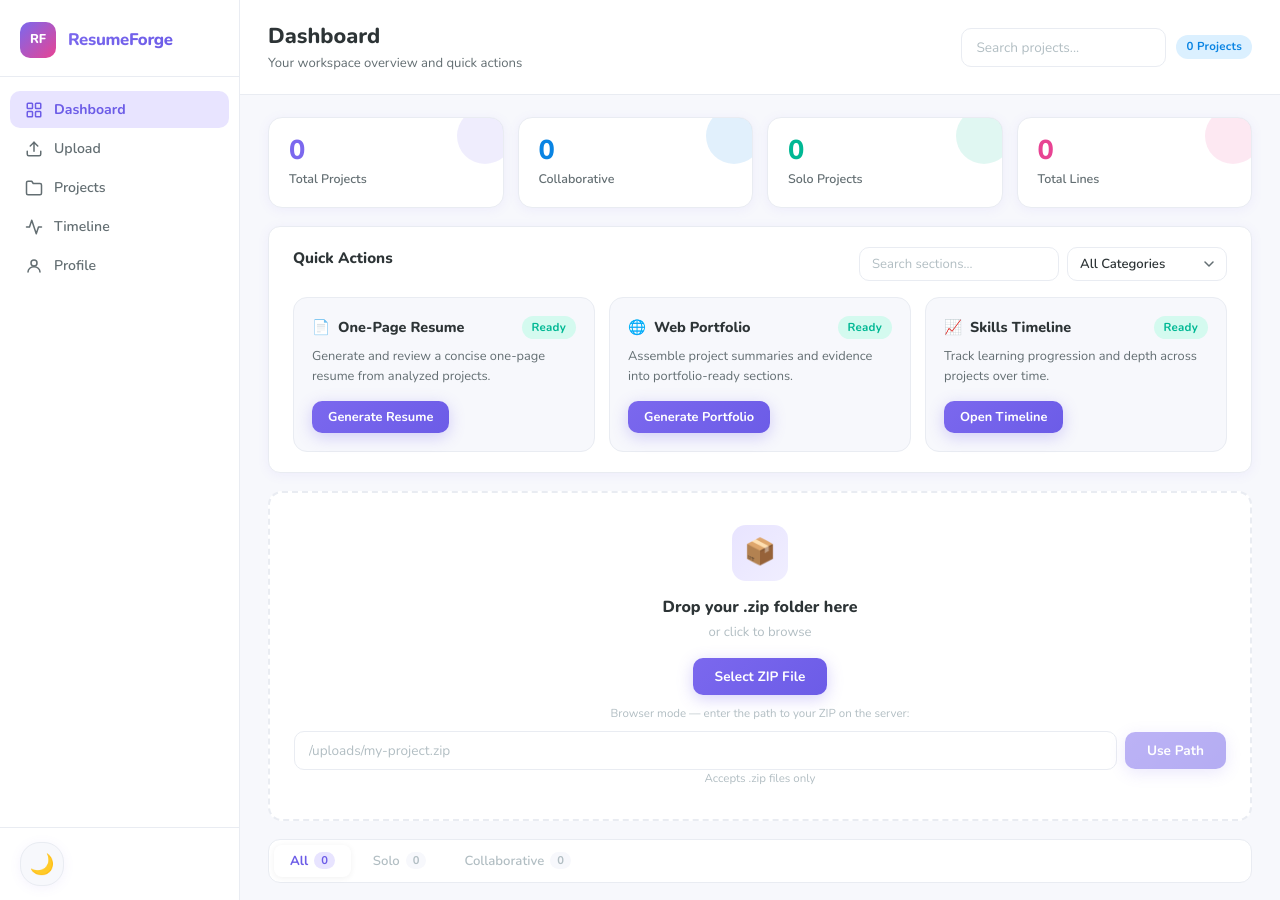
Test: App Layout › switches to Projects view when nav clicked
Click the button "Projects".
click(120, 188)  # box [10,169,229,206]
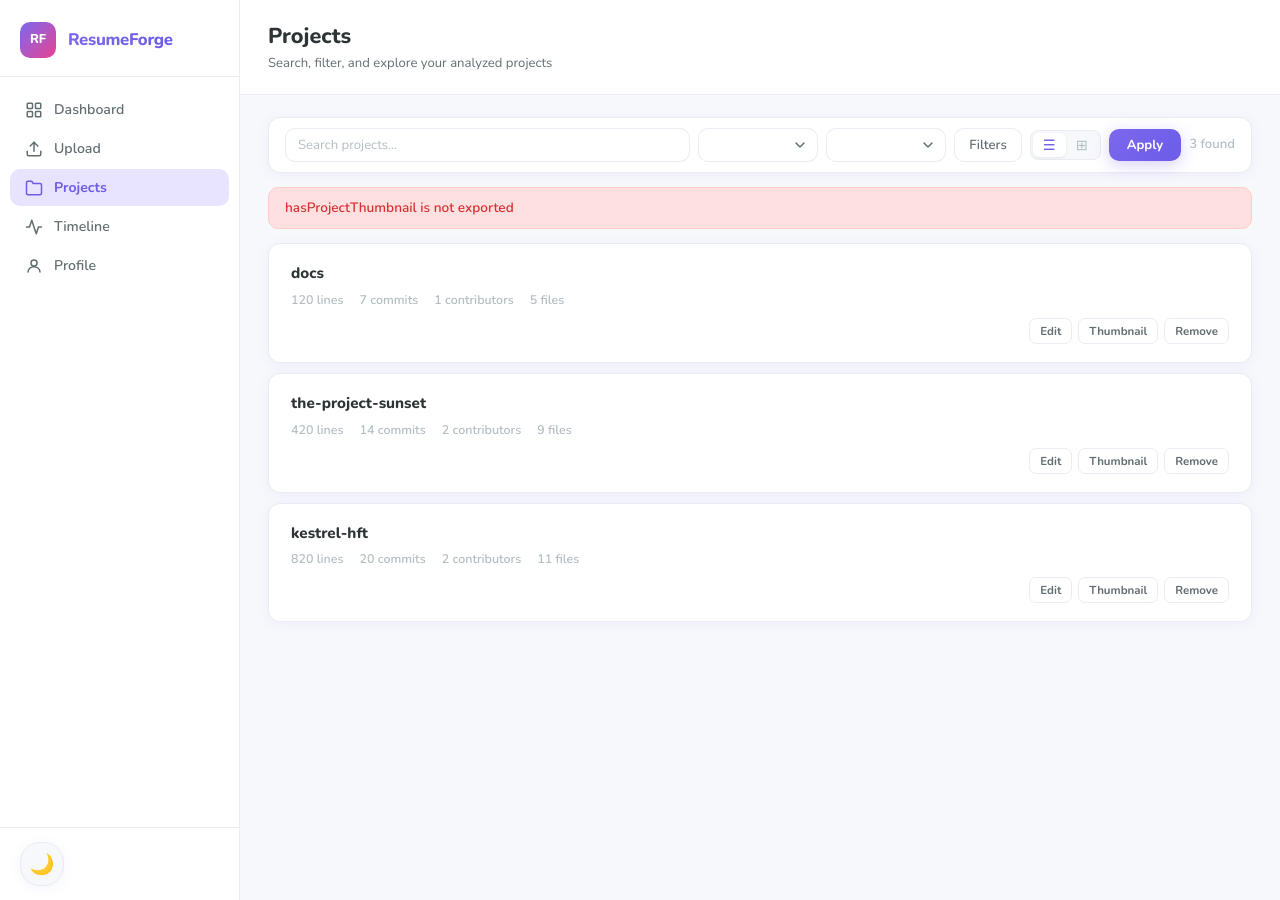
expect the text "Search, filter, and explore your analyzed projects" is shown: met, box [268,54,552,74]
